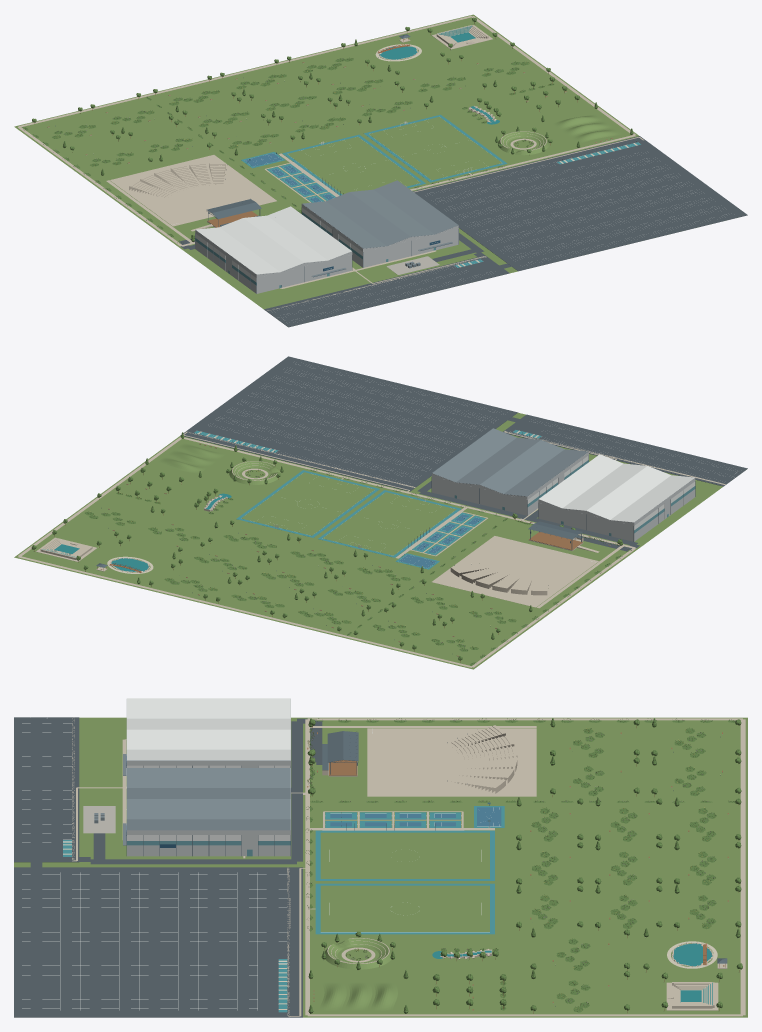
The model's file is option-05.glb.
3 views of the same model, one above another, from view 1: azimuth 30°, elevation 25°; view 2: azimuth 150°, elevation 25°; view 3: azimuth 270°, elevation 25° (orthographic). The views are drawn at different scales.
Visible parts, largest first — view 1: 30 acre outdoor activity allocation, option-05-lot-1 actual paved lot, option-05 Landscape Paved audience reservation 8000 concept , soccer-1 playing surface, option-05 assumed site platform, soccer-2 playing surface, option-05-lot-2 actual paved lot, Roof_events butterfly insulated roof, Roof_sports butterfly insulated roof, Roof_sports butterfly insulated roof.001, Roof_events butterfly insulated roof.001, option-05 Landscape Native tree lobed canopy (+14 smaller); view 2: 30 acre outdoor activity allocation, option-05-lot-1 actual paved lot, option-05 Landscape Paved audience reservation 8000 concept , soccer-1 playing surface, soccer-2 playing surface, option-05-lot-2 actual paved lot, Roof_sports butterfly insulated roof, Roof_events butterfly insulated roof, Roof_events butterfly insulated roof.001, Roof_sports butterfly insulated roof.001, option-05 Landscape Native tree lobed canopy, option-05 assumed site platform (+14 smaller); view 3: 30 acre outdoor activity allocation, option-05-lot-1 actual paved lot, option-05 Landscape Paved audience reservation 8000 concept , soccer-1 playing surface, soccer-2 playing surface, option-05 assumed site platform, option-05-lot-2 actual paved lot, Roof_sports butterfly insulated roof, Roof_sports butterfly insulated roof.001, Roof_events butterfly insulated roof.001, Roof_events butterfly insulated roof, option-05 L1 actual stall boundary paint (+22 smaller).
Part boxes in pixels (x1,y1,x2,y2): 30 acre outdoor activity allocation: (14,14,639,248); option-05-lot-1 actual paved lot: (413,136,747,271); option-05 Landscape Paved audience reservation 8000 concept : (110,155,276,226); soccer-1 playing surface: (369,117,501,180); option-05 assumed site platform: (180,228,517,309); soccer-2 playing surface: (287,136,420,194); option-05-lot-2 actual paved lot: (264,255,509,327); Roof_events butterfly insulated roof: (302,192,410,248); Roof_sports butterfly insulated roof: (195,218,303,274); Roof_sports butterfly insulated roof.001: (243,206,351,262); Roof_events butterfly insulated roof.001: (350,180,458,236); option-05 Landscape Native tree lobed canopy: (32,17,579,238); 30 acre outdoor activity allocation: (14,435,639,669); option-05-lot-1 actual paved lot: (180,356,517,491); option-05 Landscape Paved audience reservation 8000 concept : (431,536,598,607); soccer-1 playing surface: (241,472,374,535); soccer-2 playing surface: (323,492,456,555); option-05-lot-2 actual paved lot: (503,414,747,486); Roof_sports butterfly insulated roof: (586,466,694,522); Roof_events butterfly insulated roof: (480,440,588,496); Roof_events butterfly insulated roof.001: (432,428,540,484); Roof_sports butterfly insulated roof.001: (539,454,646,510); option-05 Landscape Native tree lobed canopy: (31,457,621,660); option-05 assumed site platform: (410,412,722,547); 30 acre outdoor activity allocation: (303,717,747,1017); option-05-lot-1 actual paved lot: (14,867,302,1017); option-05 Landscape Paved audience reservation 8000 concept : (367,728,536,796); soccer-1 playing surface: (320,885,489,931); soccer-2 playing surface: (320,832,489,878); option-05 assumed site platform: (14,717,302,867); option-05-lot-2 actual paved lot: (14,717,79,862); Roof_sports butterfly insulated roof: (127,698,290,729); Roof_sports butterfly insulated roof.001: (127,729,290,760); Roof_events butterfly insulated roof.001: (127,799,290,830); Roof_events butterfly insulated roof: (127,768,290,798); option-05 L1 actual stall boundary paint: (22,723,286,1010).
Size of the model in its own units: 440 by 18.88 by 455.
